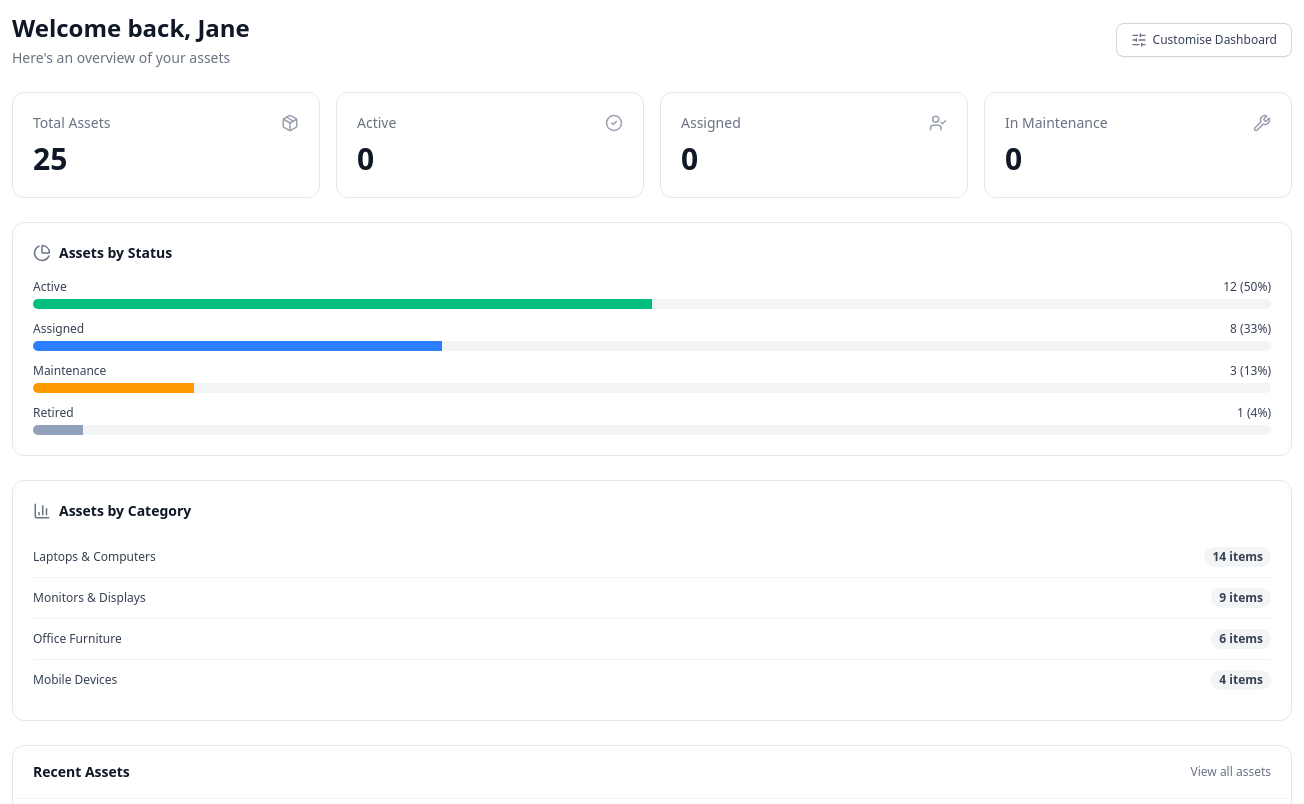
DashboardPage Customization (Issue #1050) › resets layout to default when Reset to Default button is clicked
The image size is (1304, 804).
Click the button "Customise Dashboard". click: (1204, 40)
box: [1116, 23, 1292, 57]
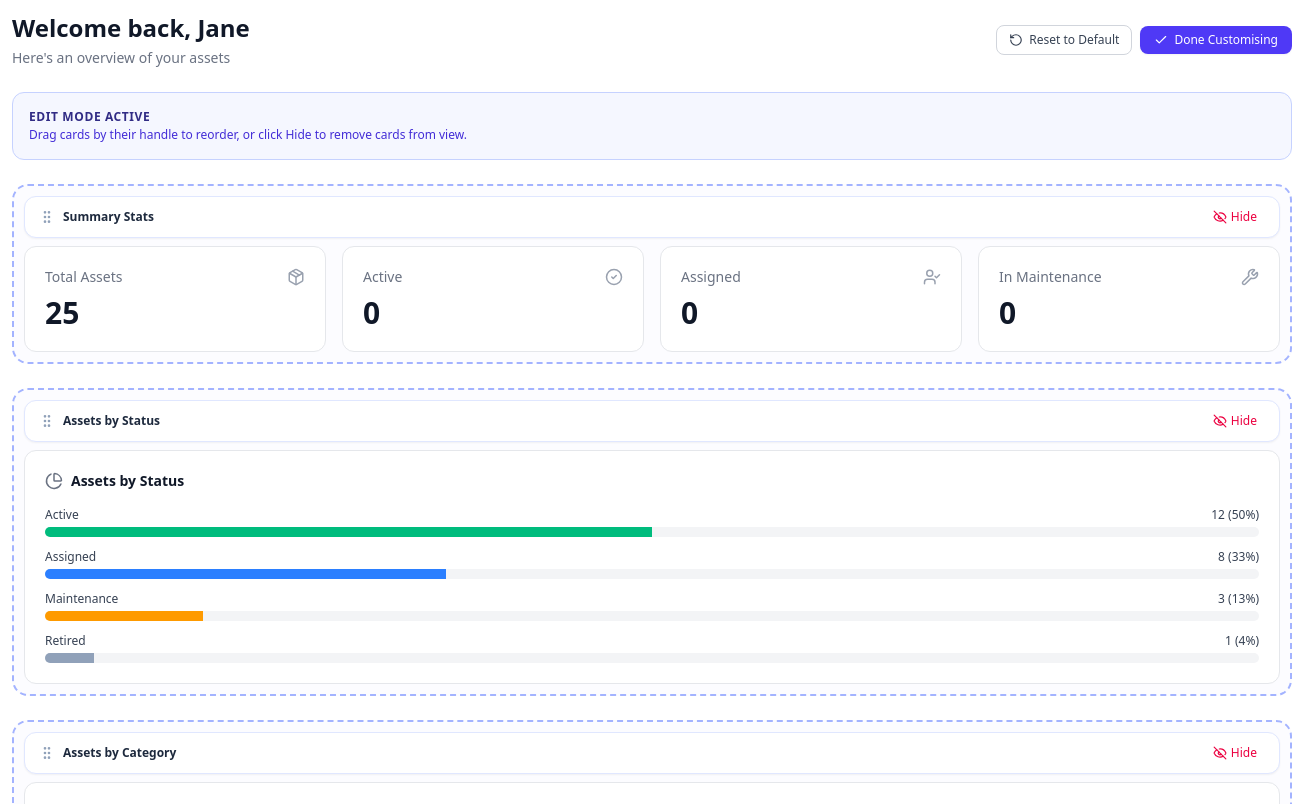
Click the button "Reset to Default". click: (1064, 40)
box: [996, 25, 1132, 55]
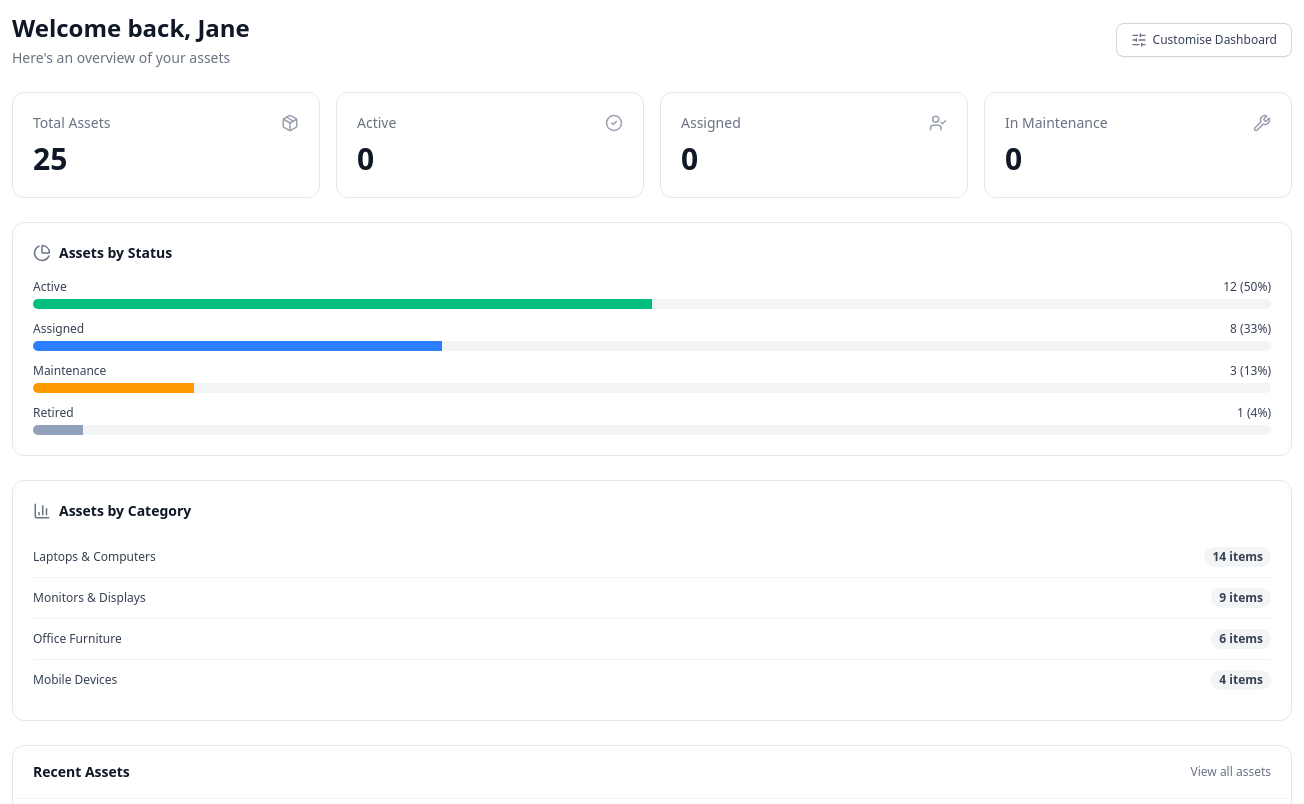
Now the text "Edit Mode Active" is gone
